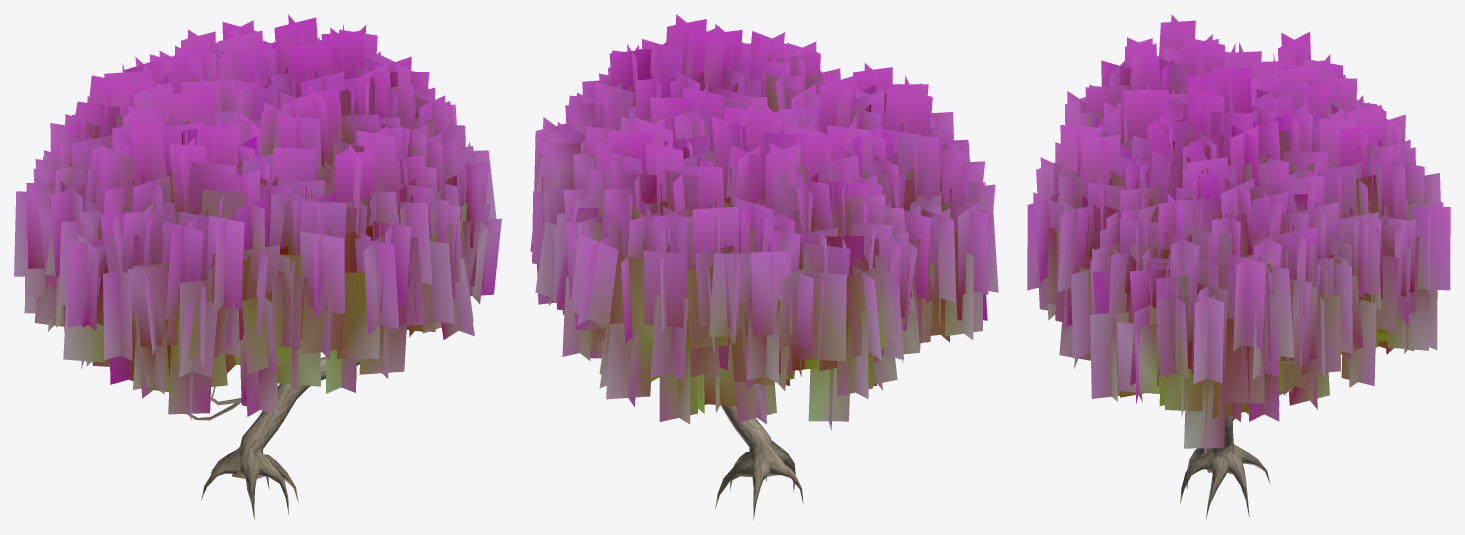
The model's file is FAE_Willow_02.fbx.
The picture shows the model from 3 angles, left to right: view 1: azimuth 30°, elevation 25°; view 2: azimuth 150°, elevation 25°; view 3: azimuth 270°, elevation 25°; orthographic projection. The views are drawn at different scales.
Parts seen in each view (by area): view 1: FAE_Willow_02_LOD0; view 2: FAE_Willow_02_LOD0; view 3: FAE_Willow_02_LOD0.
Boxes of the visible parts, <box> form: FAE_Willow_02_LOD0: <box>14,14,501,519</box>; FAE_Willow_02_LOD0: <box>530,14,998,520</box>; FAE_Willow_02_LOD0: <box>1027,14,1450,519</box>.
Size of what is drawn, in the model's own units: 1864 by 1924 by 1603.
